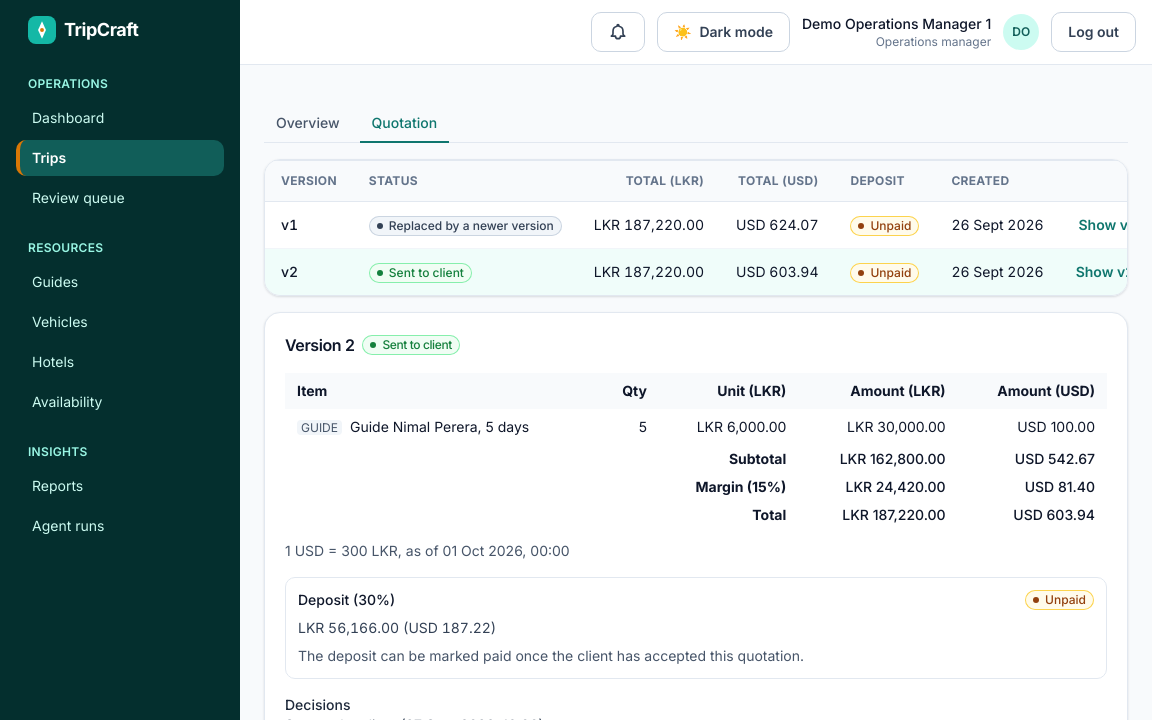
Scenario: Trip detail: Quotation tab › offers no payment action before the client accepted, nor on an older version
This screenshot has width=1152, height=720.
Expected: the text "can be marked paid once the client has accepted" is shown, [298,647,804,664]
Step 1. Click the button "Show v1" → (1106, 225), box [1078,215,1134,235]
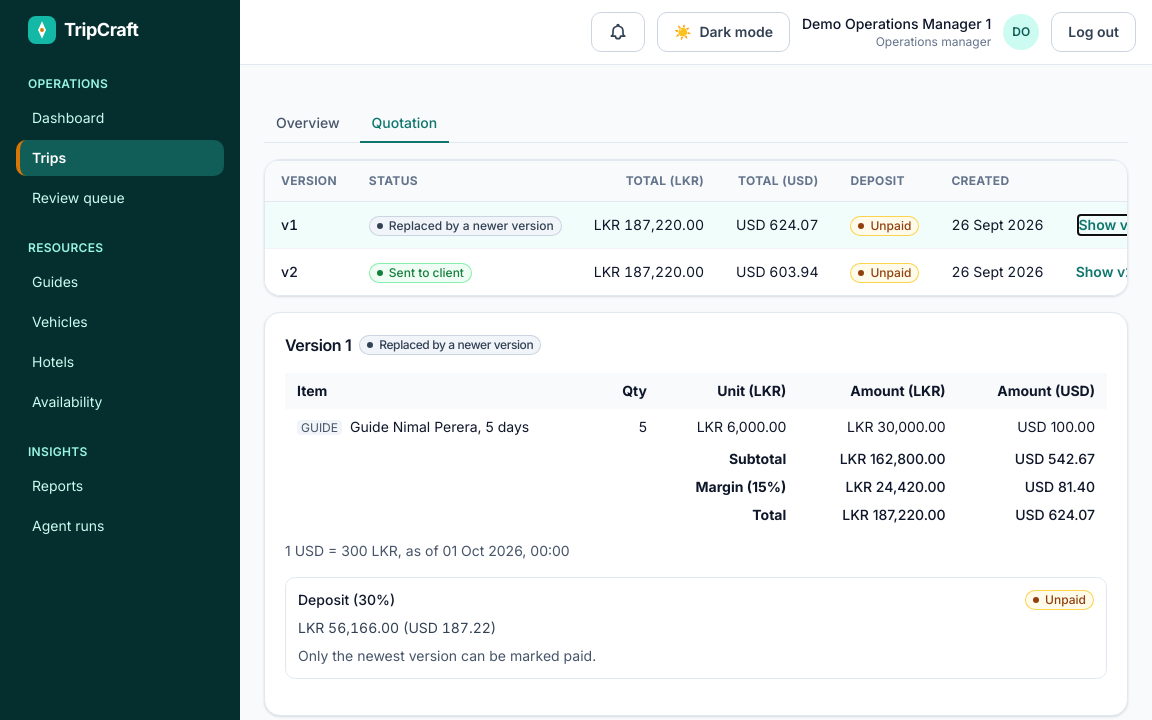
Expected: the element named "Quotation version 1" is shown, [264,312,1128,716]
Expected: the text "Only the newest version can be marked paid." is shown, [298,647,596,664]
